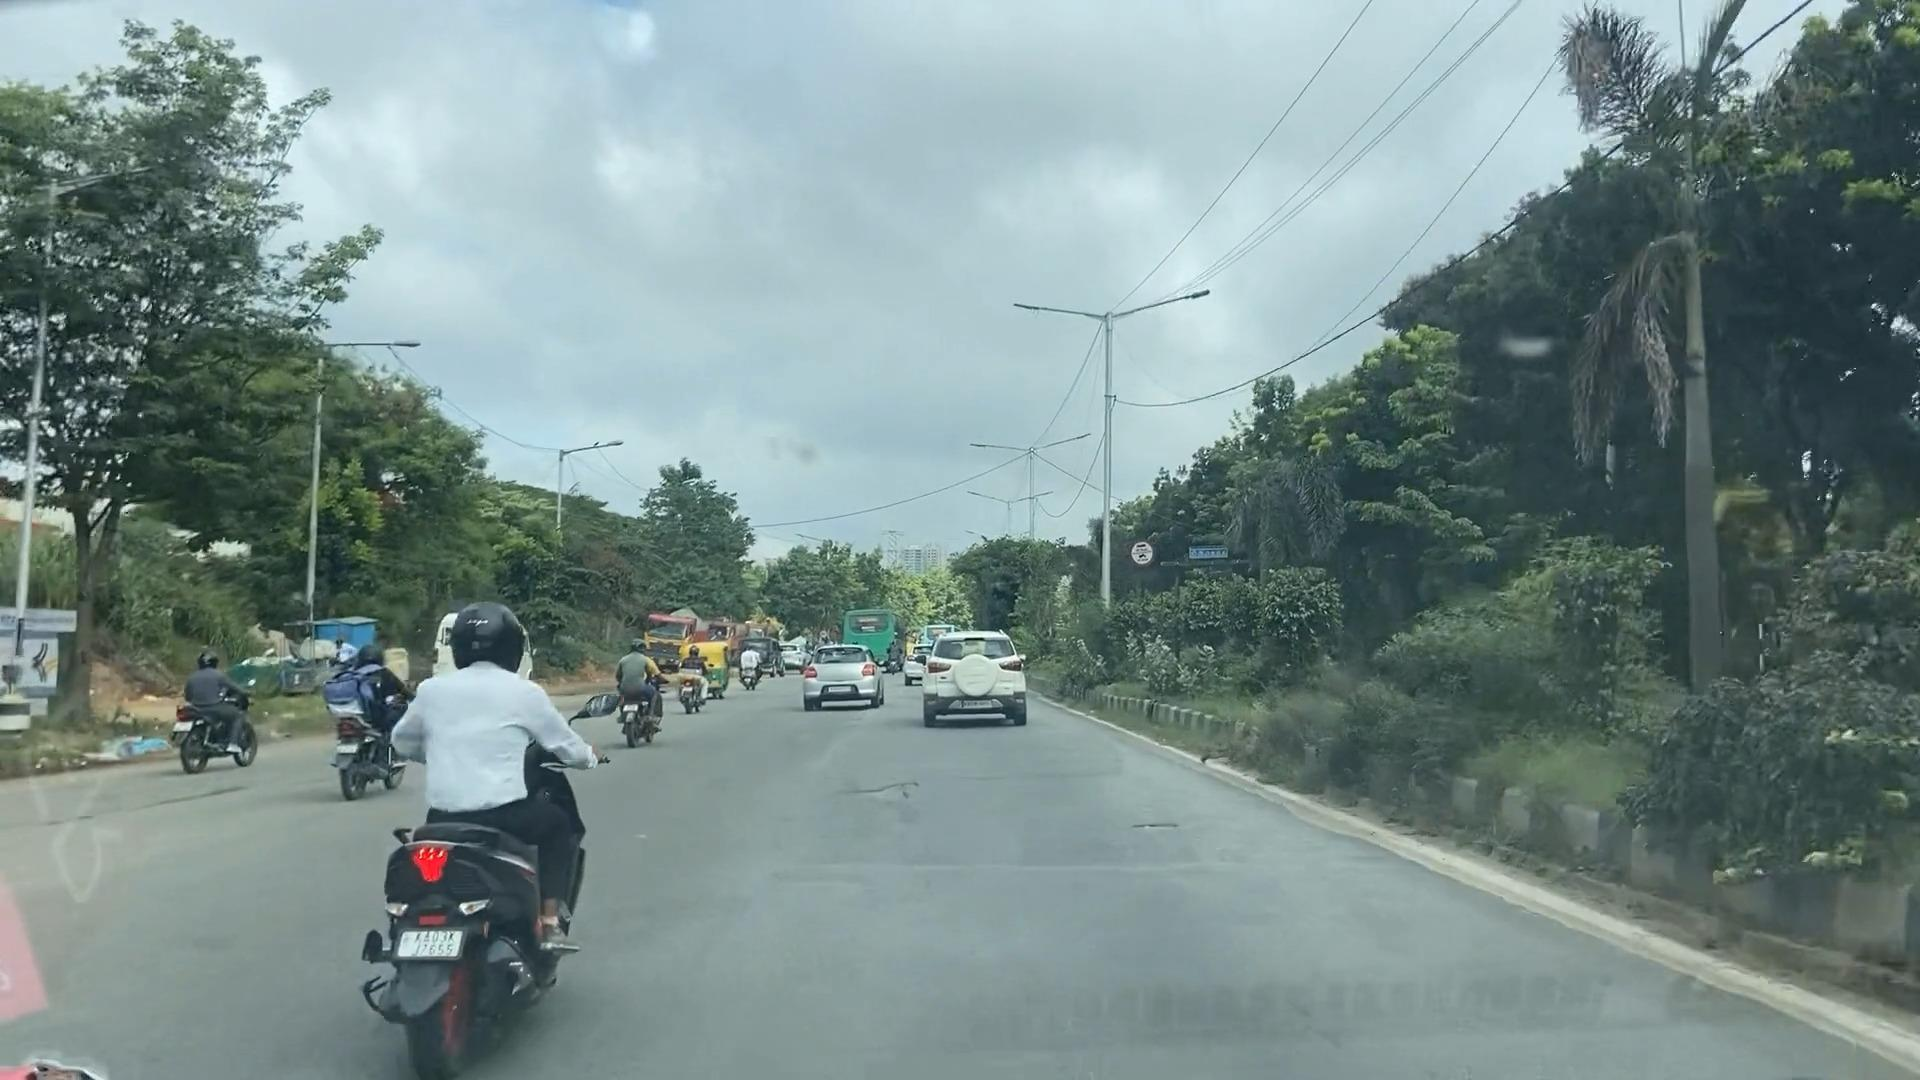LMV: (252, 571, 679, 1080), (890, 609, 1033, 729), (323, 632, 419, 800), (167, 638, 266, 795), (785, 628, 894, 738), (611, 640, 665, 745)
RoadDamages: (796, 749, 963, 832), (1100, 794, 1213, 866)
